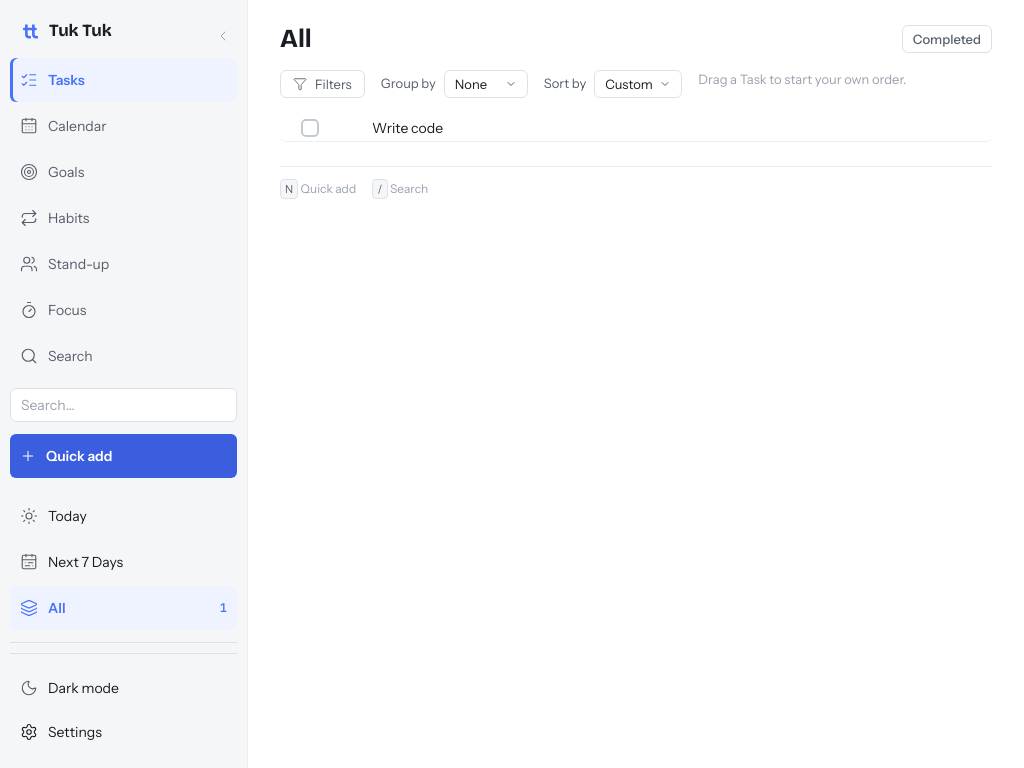
Scenario: Task-sourced Key Results (issue #236) › does not offer manual or habit-sourced Key Results as picker options
Click the button "Write code". click: x=490, y=128
box: [372,119,608,137]
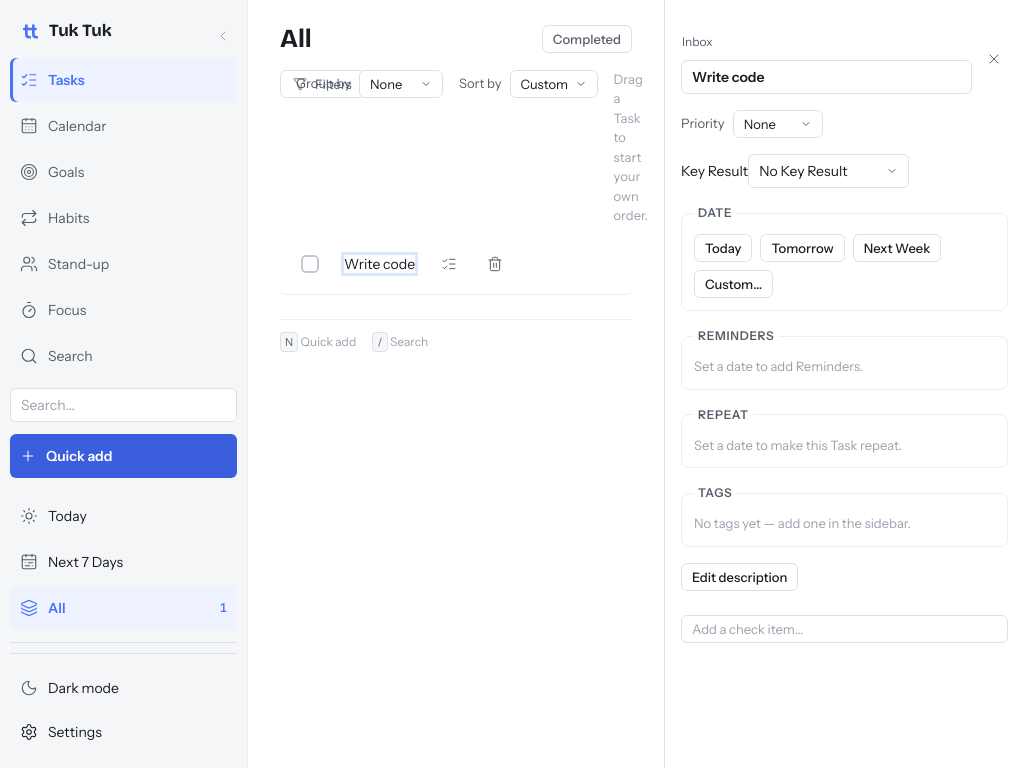
Expected: the dropdown labelled "Key Result" does not show "Manual KR", [748,154,909,188]
Now the element named "Task details" is shown, box [664,0,1023,767]
